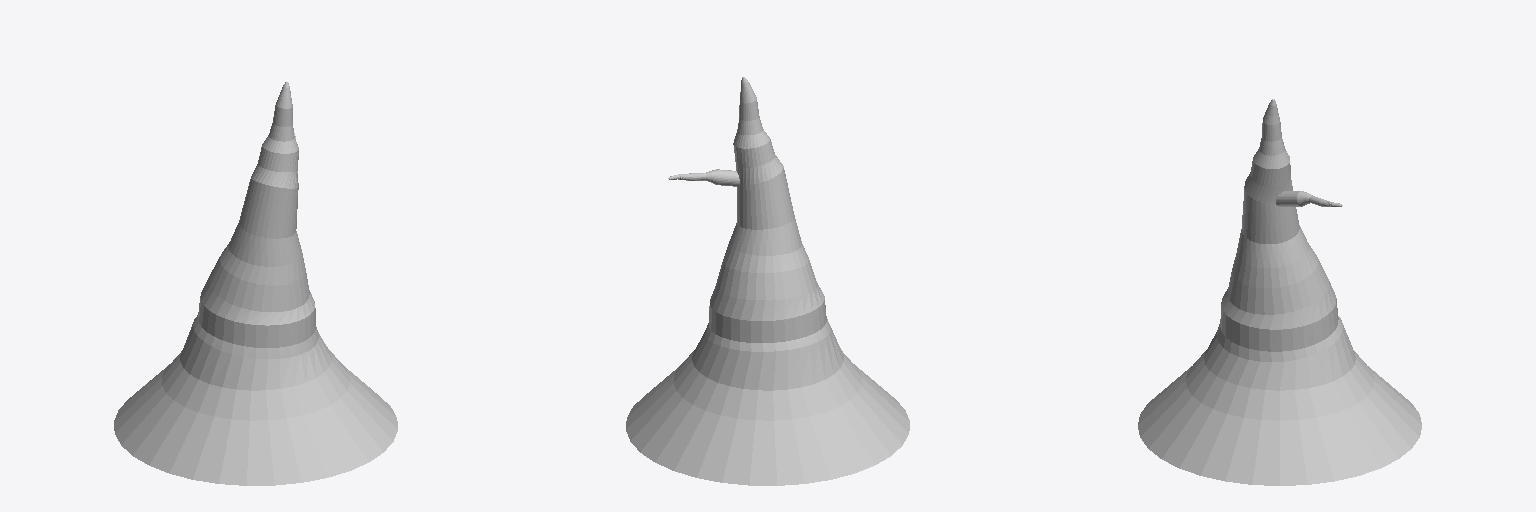
File: TreeBee.obj
The picture shows the model from 3 angles: view 1: azimuth 30°, elevation 25°; view 2: azimuth 150°, elevation 25°; view 3: azimuth 270°, elevation 25°; orthographic projection.
Visible parts, largest first — view 1: Cylinder; view 2: Cylinder; view 3: Cylinder.
Boxes of the visible parts, box(x1,y1,x2,y2) form: Cylinder: box(114, 82, 397, 485); Cylinder: box(626, 77, 909, 485); Cylinder: box(1138, 99, 1421, 485).
Bounding box in the file's own units: 2 × 2.63 × 2.